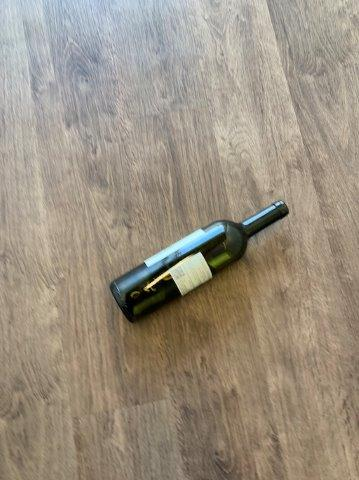botolkaca: (109, 202, 292, 322)
